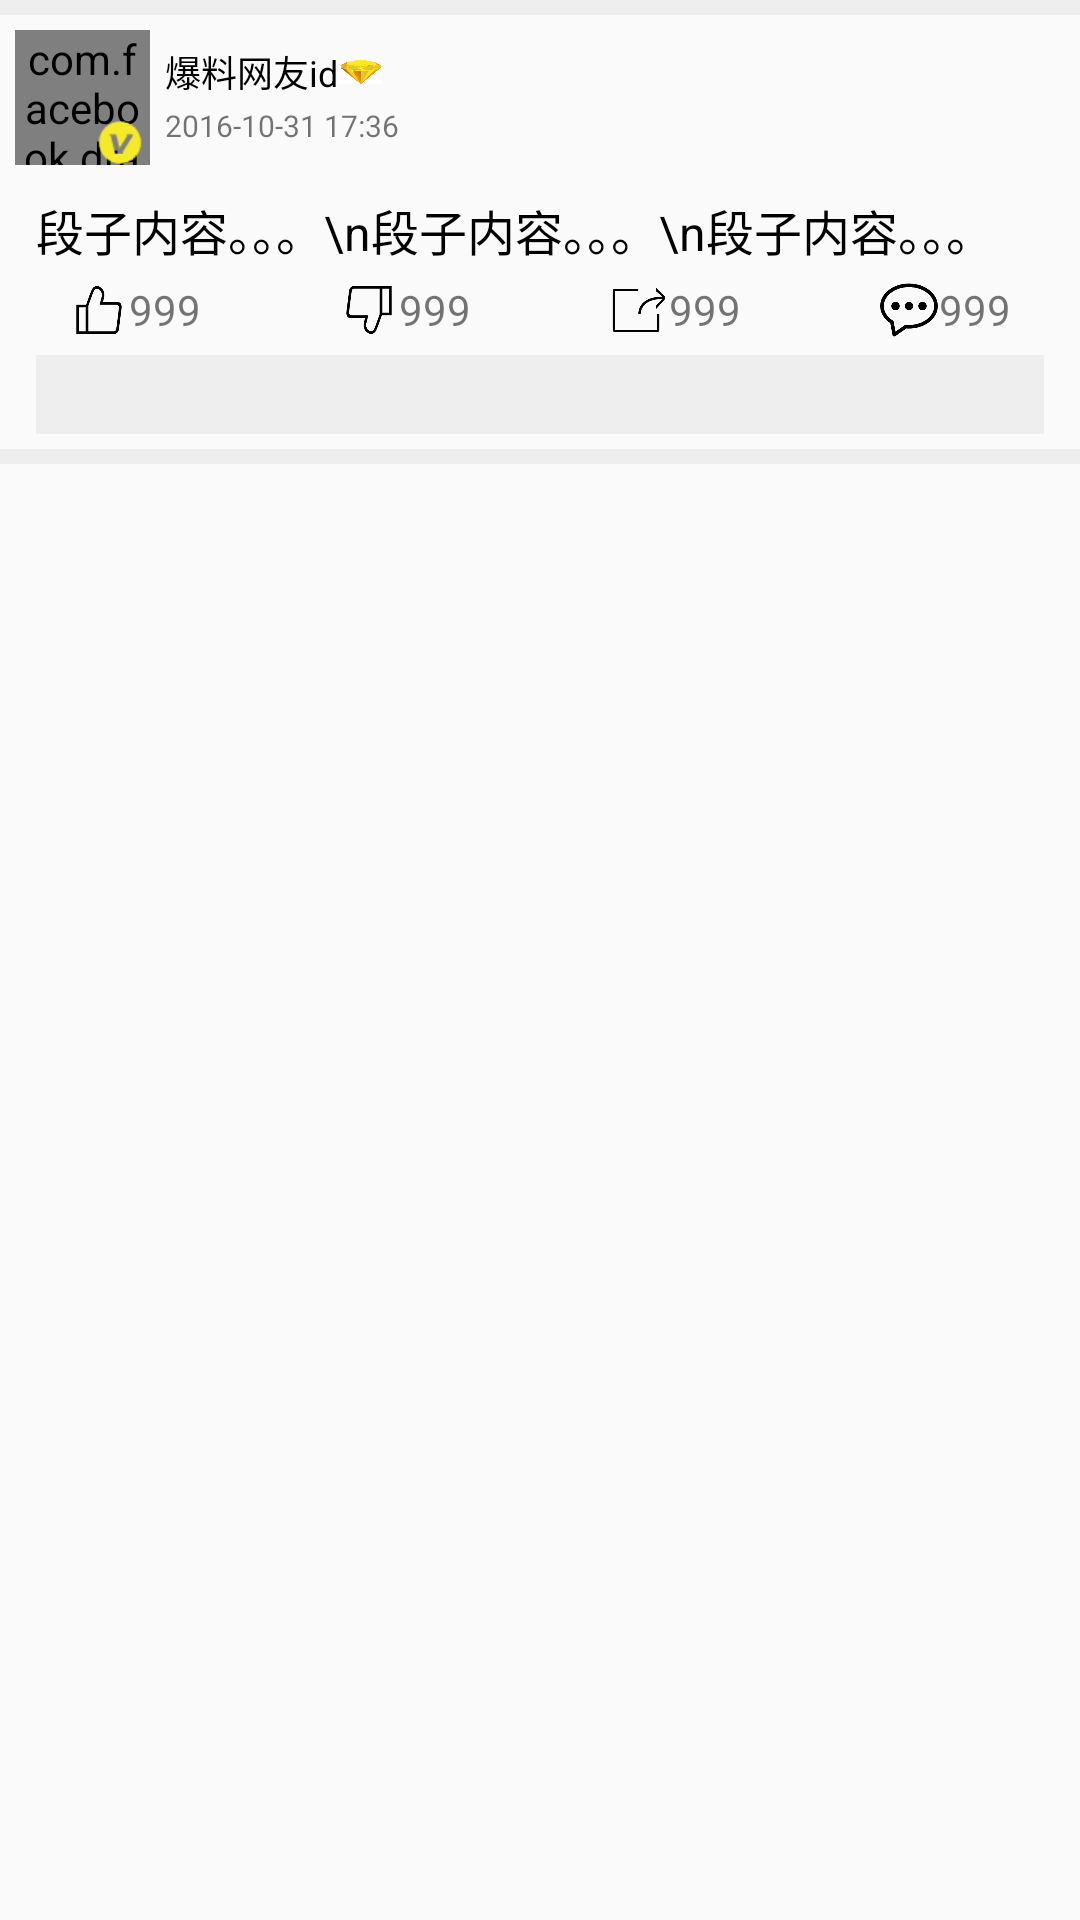

Where to tap for icons on this 1080w x 1920h app screen, as (x=x, y=y):
talk: (x=909, y=310)
xzan: (x=369, y=310)
zan: (x=99, y=310)
zhuangfa: (x=639, y=310)
zuanshi: (x=360, y=72)
